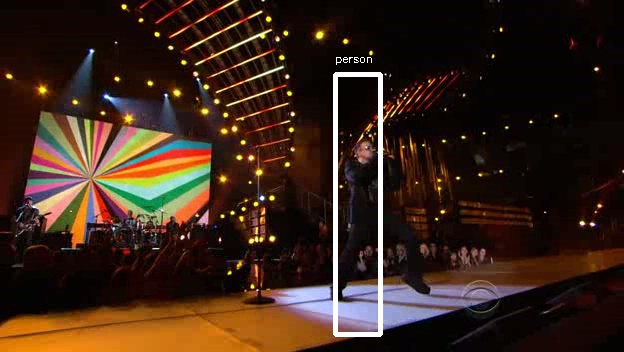person: (340, 137, 403, 250), (337, 137, 400, 250), (343, 137, 406, 250), (340, 134, 403, 247), (340, 140, 403, 253)
target_negative: (123, 59, 221, 349), (548, 38, 603, 181), (498, 158, 580, 226), (380, 325, 613, 342), (270, 31, 331, 68), (574, 8, 580, 161)
